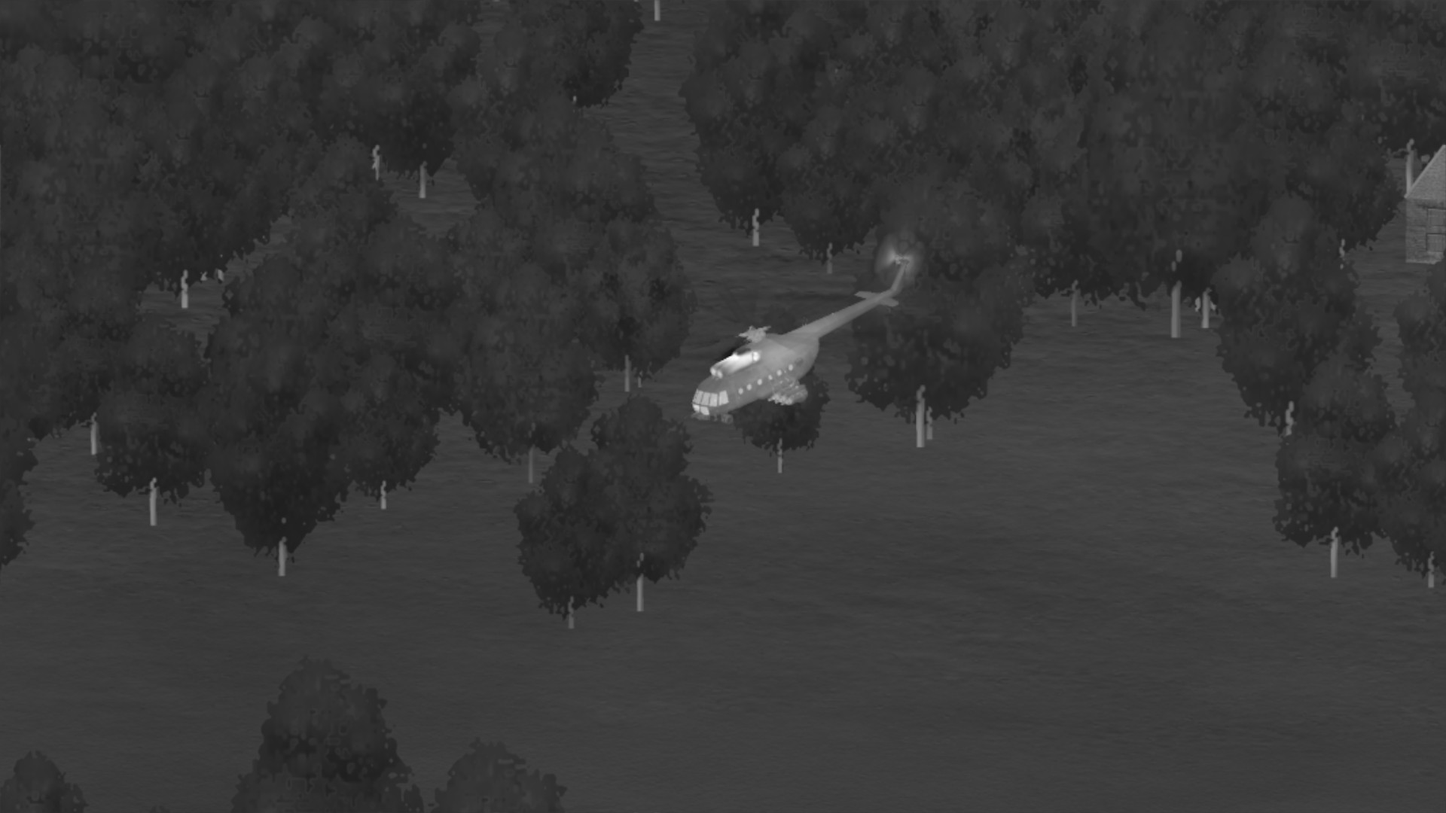mi8: (686, 232, 927, 422)
